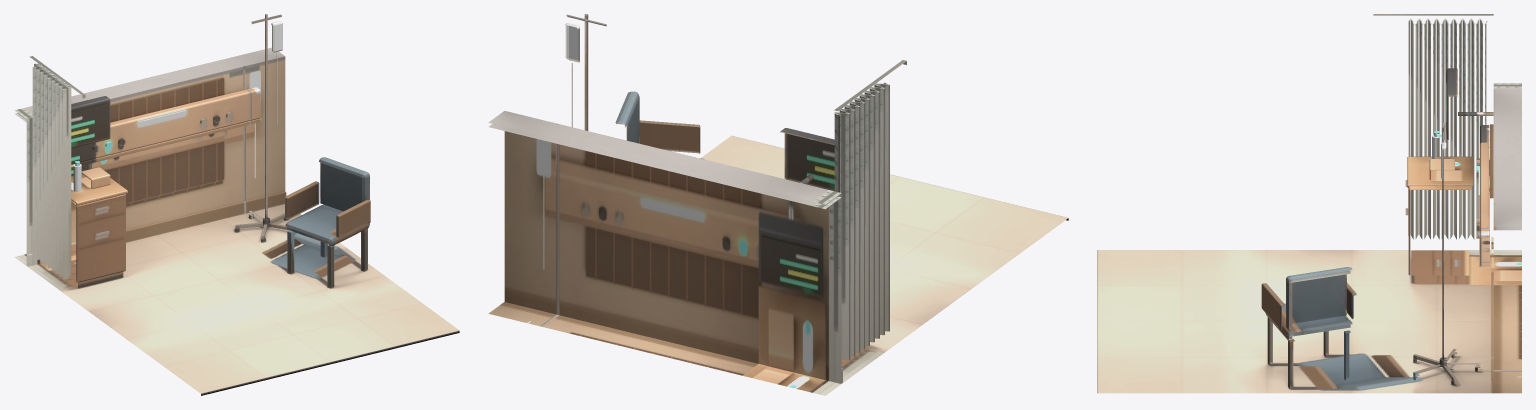
Rendered from bay-spine.glb.
3 renders of one model, left to right at view 1: azimuth 30°, elevation 25°; view 2: azimuth 150°, elevation 25°; view 3: azimuth 270°, elevation 25°, orthographic. The views are drawn at different scales.
Visible parts, largest first — view 1: baySpine; view 2: baySpine; view 3: baySpine.
Part boxes in pixels (x1,y1,x2,y2): baySpine: (14,14,459,395); baySpine: (488,14,1068,395); baySpine: (1097,14,1521,393).
Size of the model in its own units: 2.4 by 1.92 by 3.
Materials: 1 (1 with a texture image).
